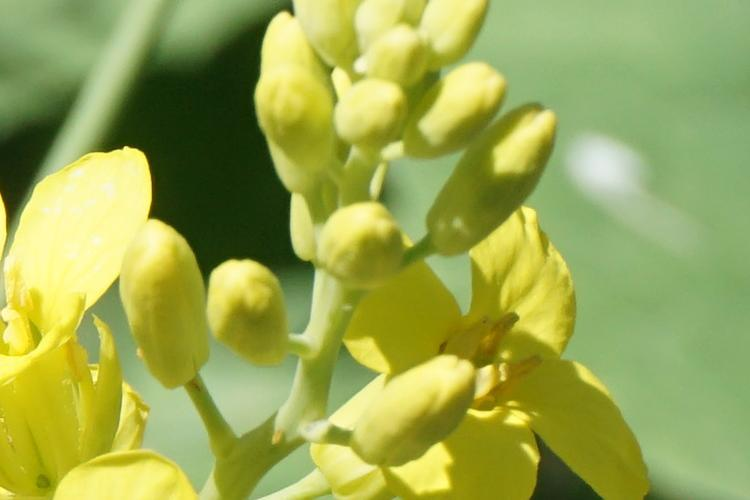bud: (437, 109, 554, 249), (118, 235, 210, 384), (363, 360, 469, 460), (207, 257, 292, 367), (411, 70, 506, 160), (253, 79, 333, 176), (324, 209, 400, 291), (335, 81, 406, 152), (425, 3, 492, 67), (372, 33, 430, 92), (270, 13, 315, 80)
yellow: (346, 227, 645, 496), (11, 153, 146, 470)
